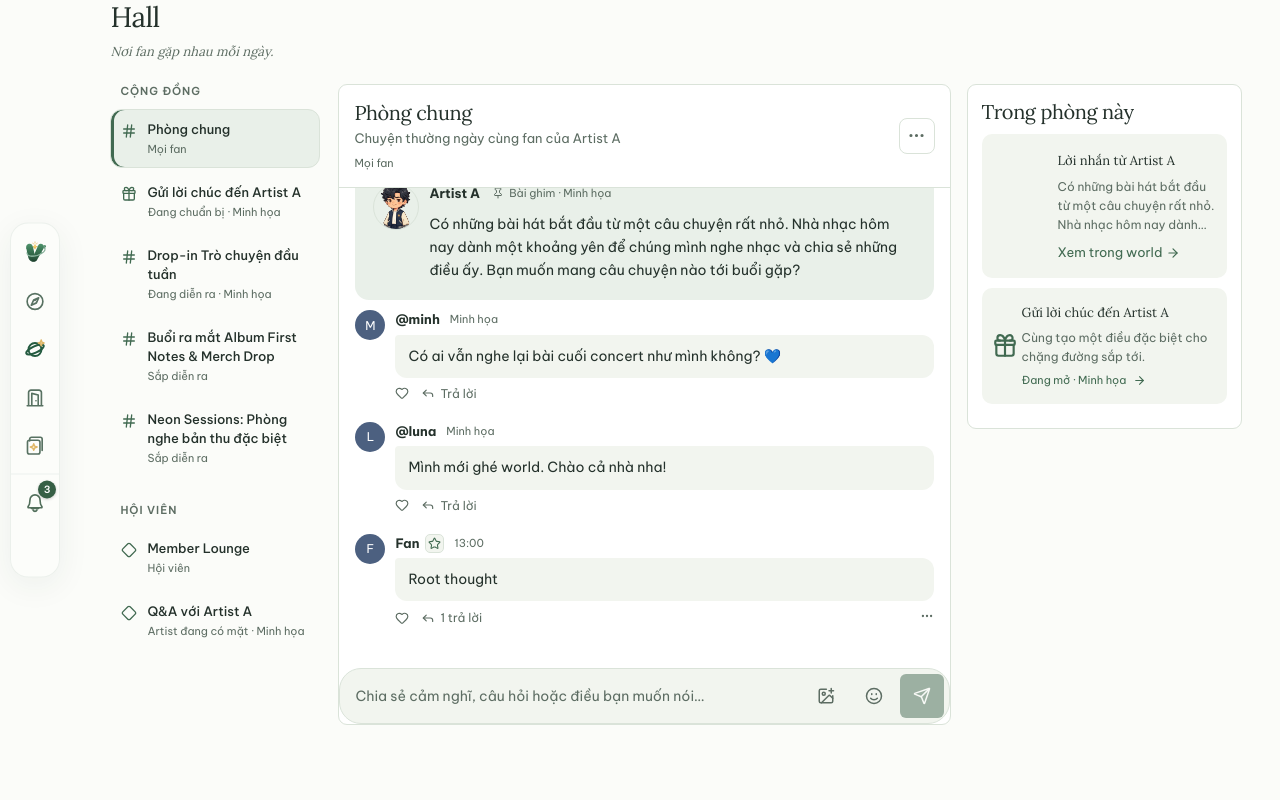
Test: Artist hierarchy and membership destinations › keeps replies in a thread inspector and removes them from the main conversation
This screenshot has width=1280, height=800.
(page scrolled)
expect the text "Thread thought" is not shown: met
Click the button "1 trả lời": (452, 618) [421, 606, 482, 629]
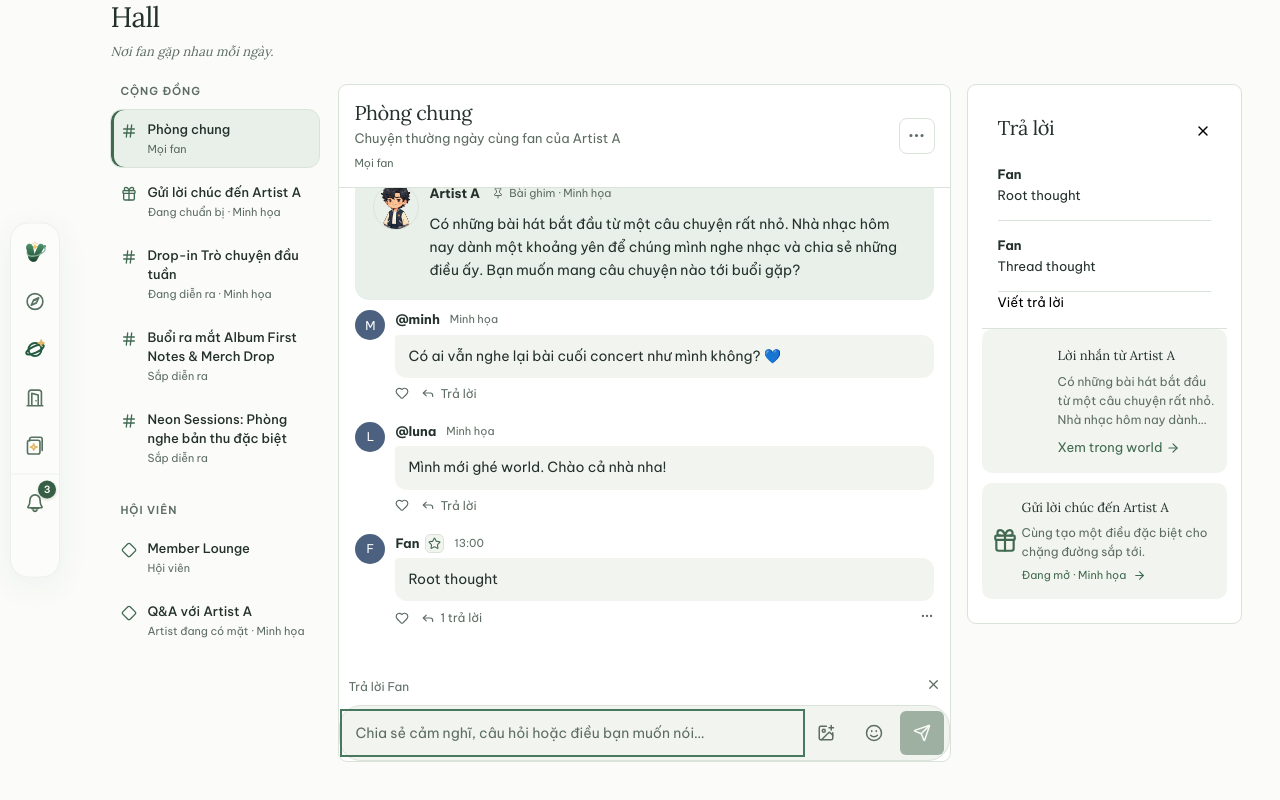
expect the text "Thread thought" is shown: met, box [998, 258, 1096, 274]
